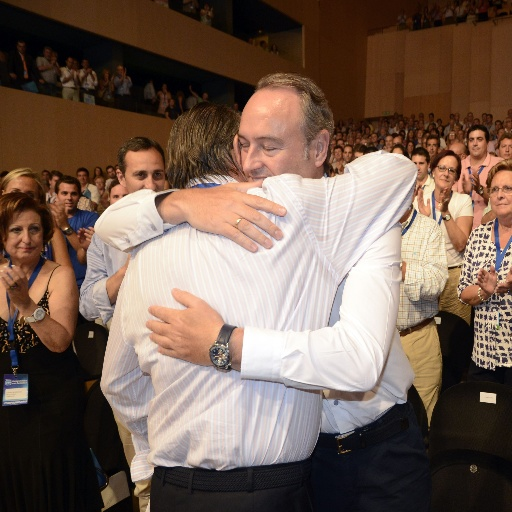hand: (179, 175, 289, 253), (152, 292, 223, 365), (0, 262, 32, 311), (475, 262, 498, 297), (46, 201, 69, 229), (492, 265, 511, 296), (416, 185, 430, 218), (75, 225, 90, 252), (437, 187, 452, 213), (83, 225, 98, 244), (468, 170, 480, 193), (461, 172, 473, 192)
